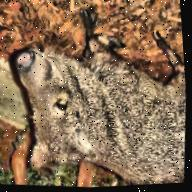boar: (0, 9, 192, 191)
